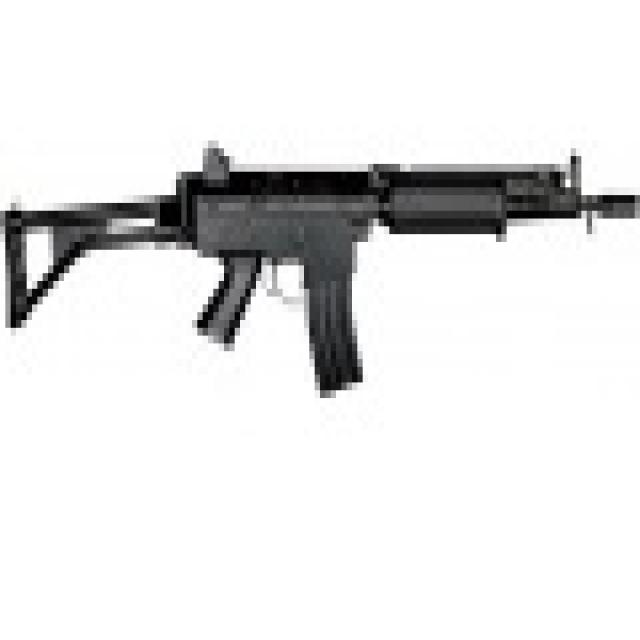Gun: (0, 128, 640, 398)
